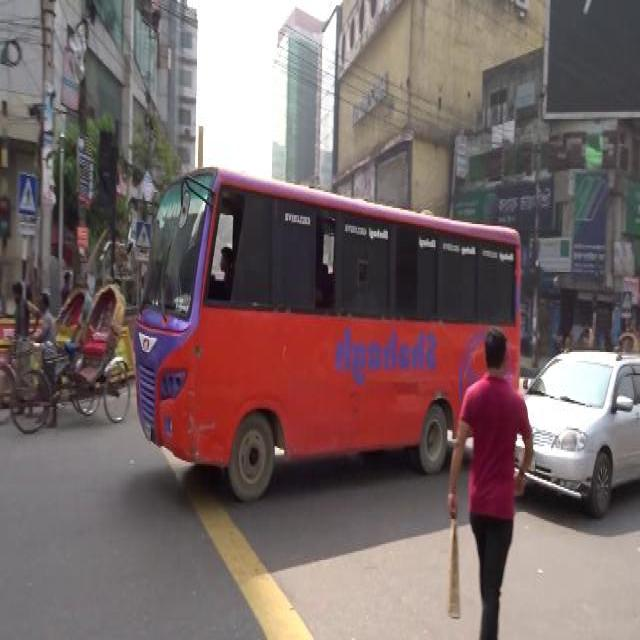Bus: (142, 151, 445, 490)
Car: (530, 343, 640, 508)
